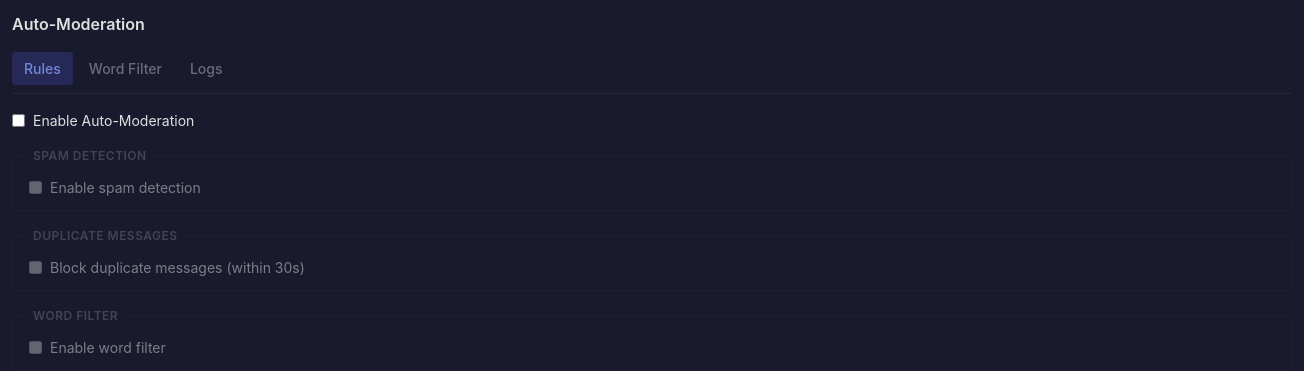
Test: AutomodSettings › switches to Word Filter tab
Check: the heading "Auto-Moderation" is shown, box [12, 14, 145, 34]
Click the button "Word Filter".
click(125, 68)  # box [77, 52, 174, 85]
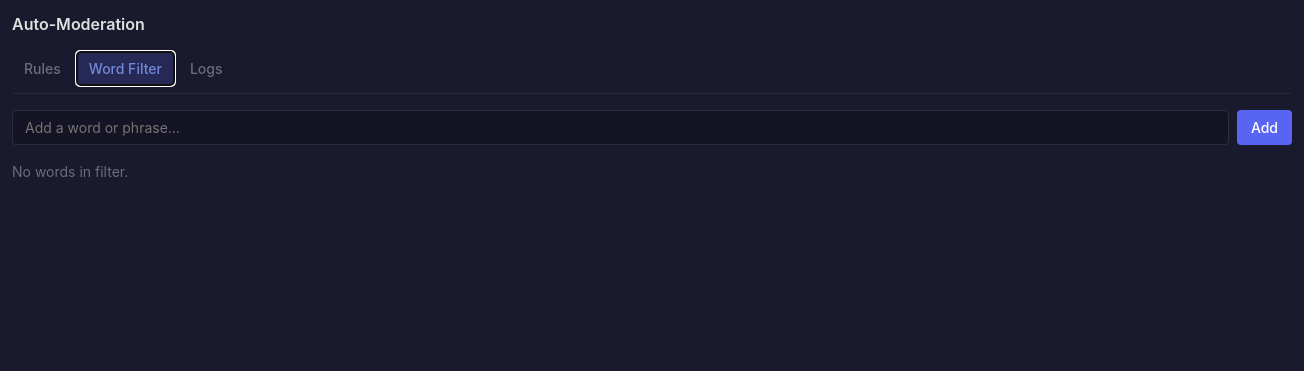
Check: the field with placeholder "Add a word or phrase…" is shown, box [12, 110, 1229, 145]
